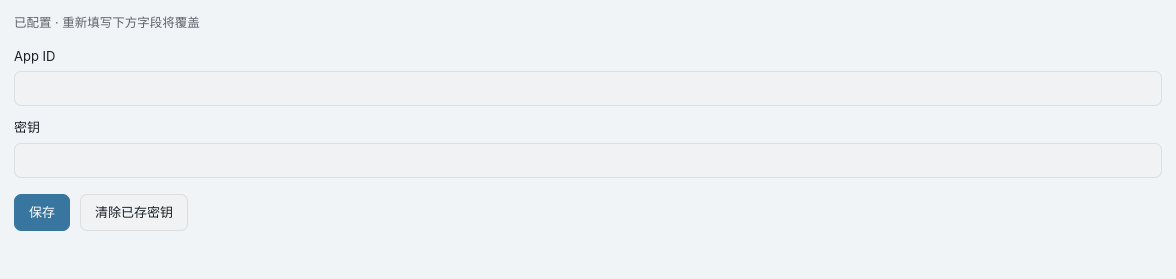
Test case: CredentialForm - isConfigured prop › 清除失败时显示错误提示（role=alert）
Click the button "清除已存密钥" at (134, 213), box [80,194,188,231]
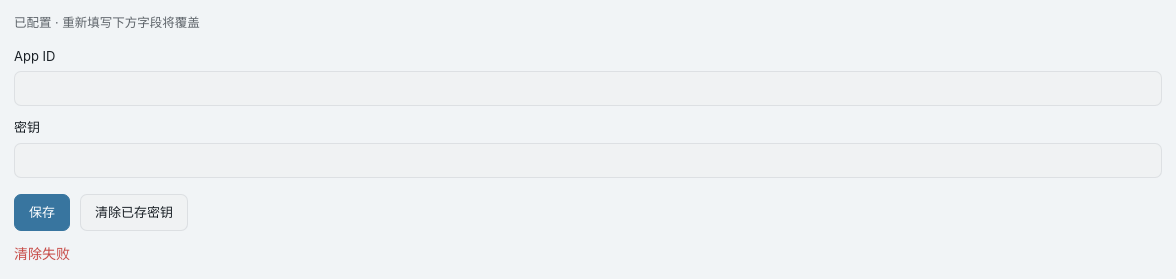
Now the message "清除失败" is shown, box [14,245,70,262]
